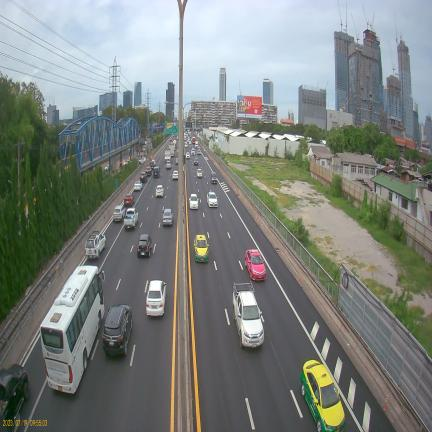bus: (40, 265, 105, 393), (192, 136, 197, 145)
car: (0, 364, 30, 431), (102, 304, 132, 356), (146, 280, 166, 316), (137, 235, 152, 257), (113, 203, 125, 221), (162, 208, 173, 225), (207, 190, 218, 207), (124, 193, 135, 207), (189, 194, 199, 209), (155, 185, 164, 197), (133, 180, 142, 191), (140, 172, 147, 183), (145, 166, 152, 176), (172, 170, 178, 180), (197, 168, 203, 178), (151, 158, 156, 168), (166, 160, 171, 169), (194, 157, 199, 165), (186, 152, 190, 159), (197, 148, 201, 155)
pickup: (233, 282, 264, 348), (85, 231, 106, 258), (124, 208, 138, 229)
taxi: (300, 360, 345, 432), (245, 249, 266, 280), (194, 235, 209, 262)
truck: (169, 140, 176, 157), (164, 149, 171, 163)
van: (153, 166, 160, 178), (210, 172, 217, 184), (191, 147, 195, 155)
